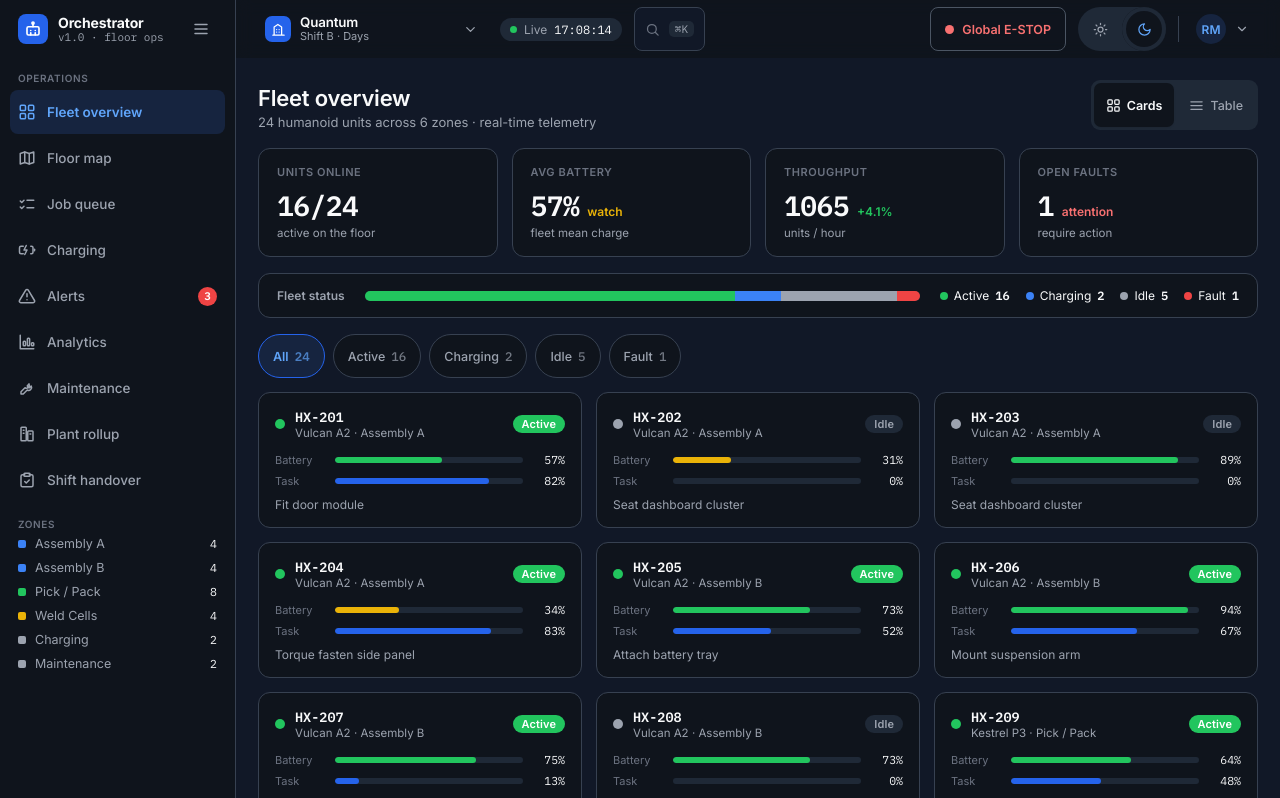
Test: collapsible sidebar › collapses to an icon rail and expands again
Click the button named "Main navigation". click: point(201, 29)
box: [179,7,223,51]
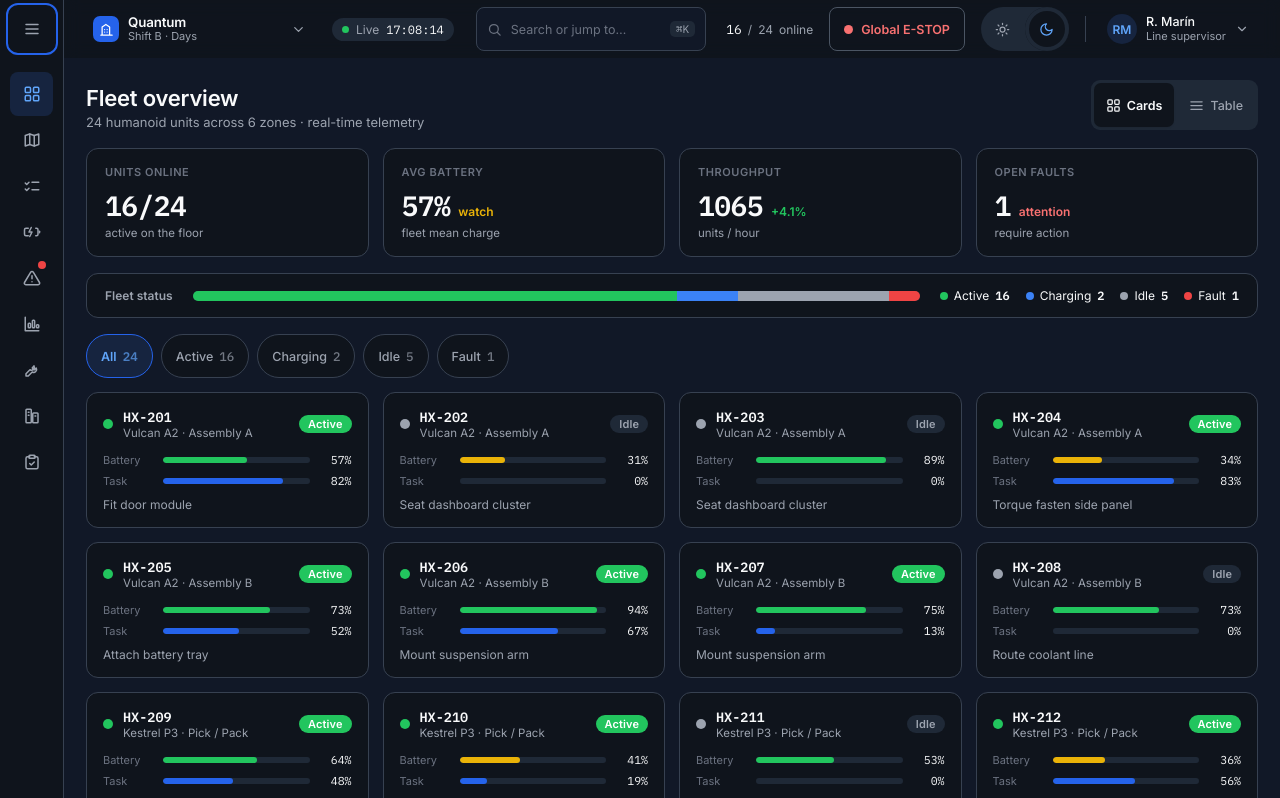
Now the button named "Main navigation" is collapsed
Now the text "Orchestrator" is gone
Now the text "Operations" is gone
Click the button named "Main navigation". click: point(32, 29)
box: [10,7,54,51]
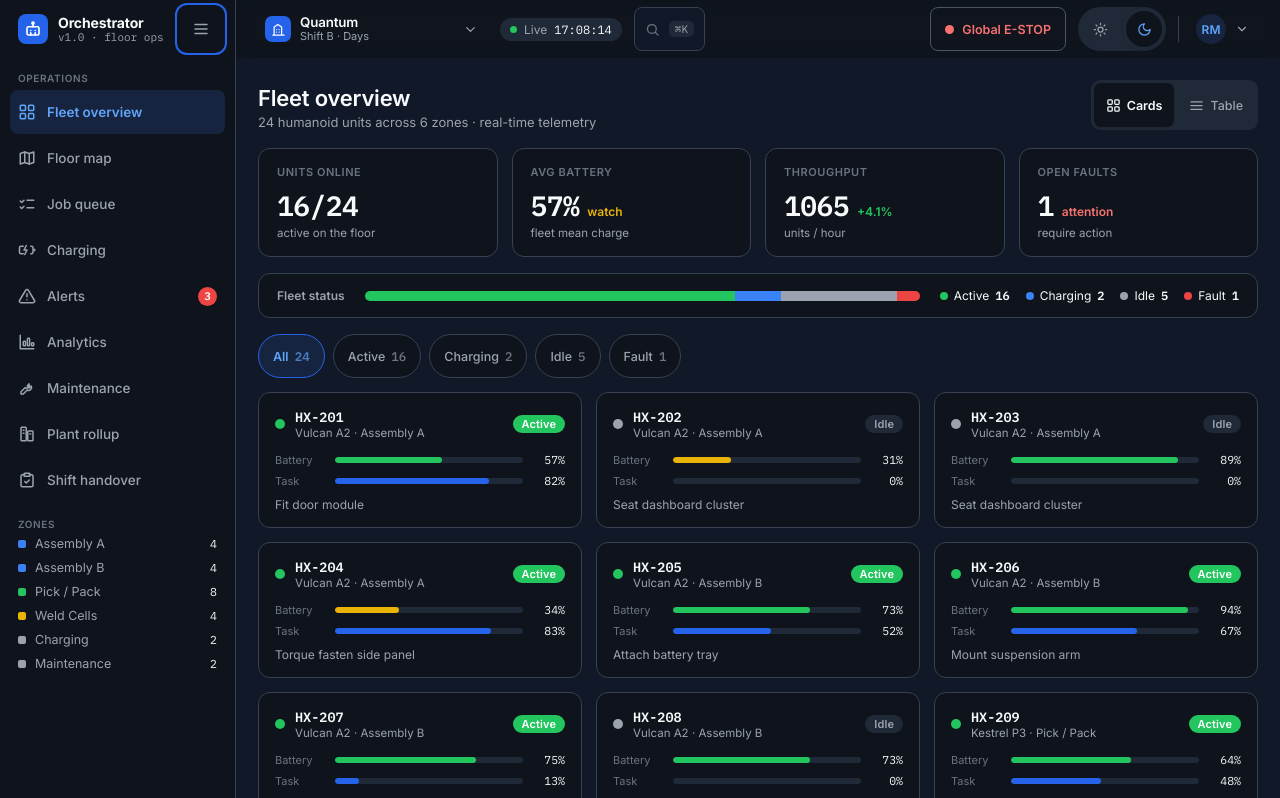
Now the button named "Main navigation" is expanded, box [179,7,223,51]
Now the text "Fleet overview" is shown, box [47,104,142,120]
